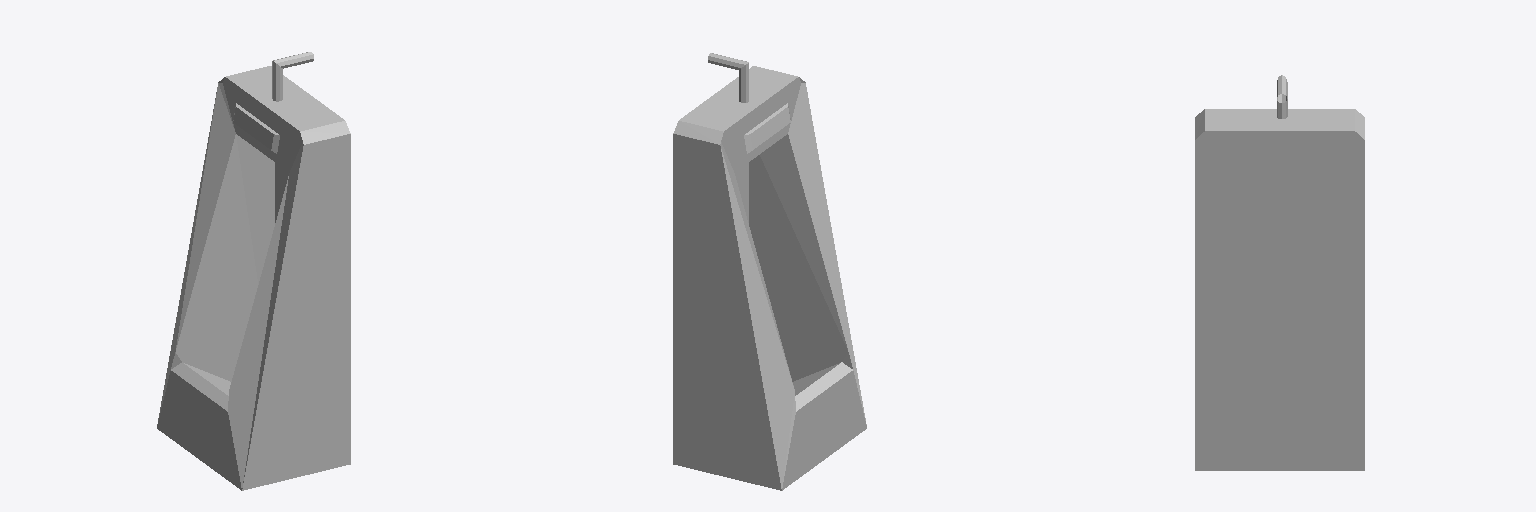
File: urinal.obj
The picture shows the model from 3 angles: view 1: azimuth 30°, elevation 25°; view 2: azimuth 150°, elevation 25°; view 3: azimuth 270°, elevation 25°; orthographic projection.
Visible parts, largest first — view 1: Box009, Box008, Line002; view 2: Box009, Box008, Line002; view 3: Box009.
Boxes of the visible parts, <box> form: Box009: <box>157,66,350,490</box>; Box008: <box>233,103,279,153</box>; Line002: <box>272,52,313,101</box>; Box009: <box>673,66,866,490</box>; Box008: <box>744,103,790,153</box>; Line002: <box>708,53,748,102</box>; Box009: <box>1195,109,1364,470</box>.
Bounding box in the file's own units: 28.63 × 91.76 × 37.4.